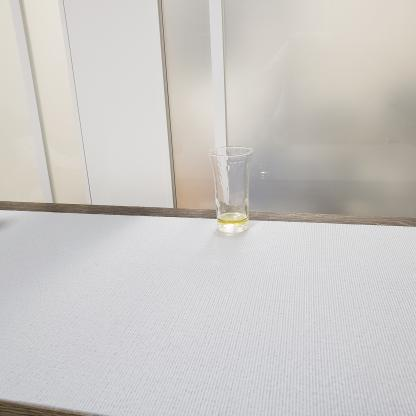glass: (203, 137, 269, 238)
